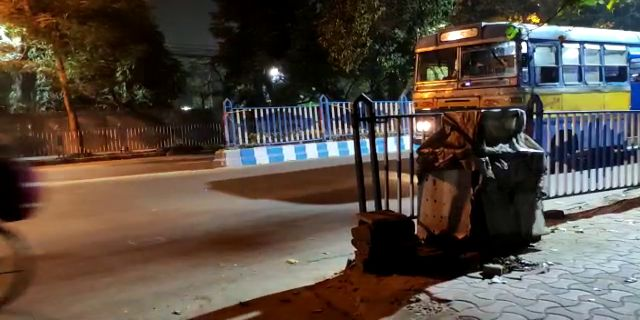Bus: (409, 20, 631, 162)
